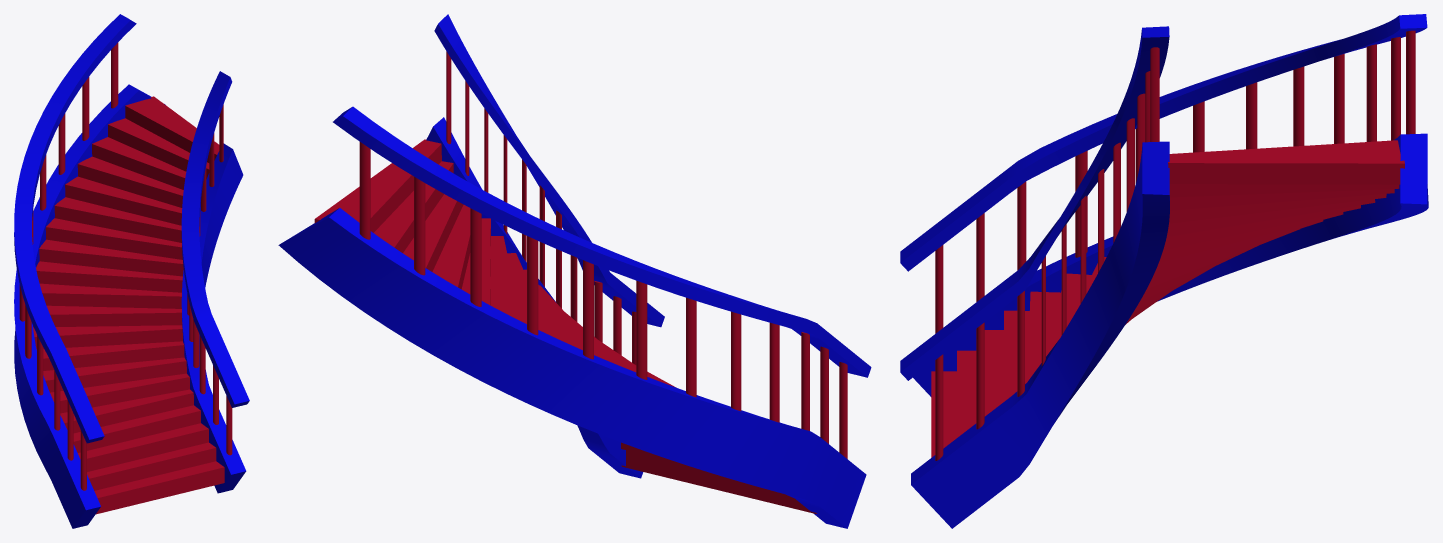
The model's file is v3_Stairs.fbx.
The picture shows the model from 3 angles, left to right: view 1: azimuth 30°, elevation 25°; view 2: azimuth 150°, elevation 25°; view 3: azimuth 270°, elevation 25°; orthographic projection. The views are drawn at different scales.
Parts seen in each view (by area): view 1: V3_Stairs; view 2: V3_Stairs; view 3: V3_Stairs.
Boxes of the visible parts, x1=… form: V3_Stairs: x1=14, y1=14, x2=249, y2=528; V3_Stairs: x1=278, y1=14, x2=871, y2=528; V3_Stairs: x1=900, y1=14, x2=1428, y2=528.
Bounding box in the file's own units: 73.63 × 101 × 88.69.
